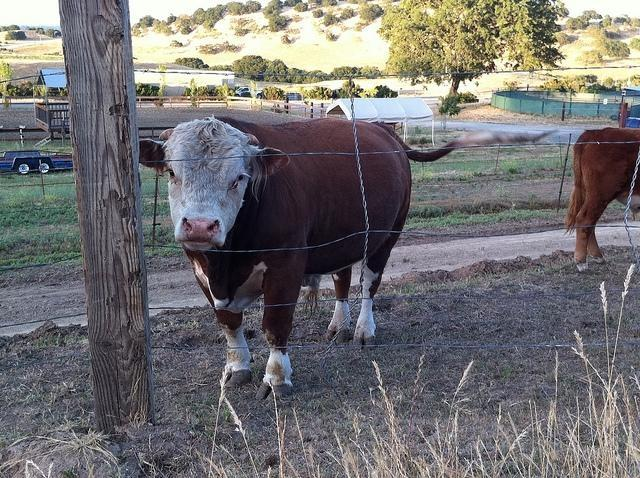truck: (234, 86, 253, 97)
